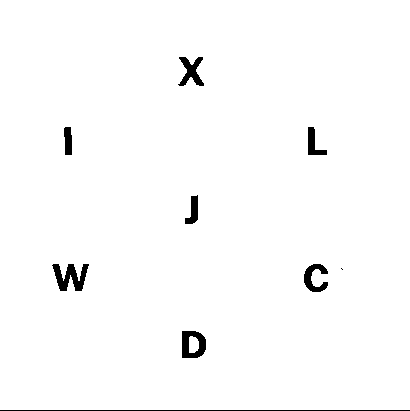I: (58, 122, 79, 163)
